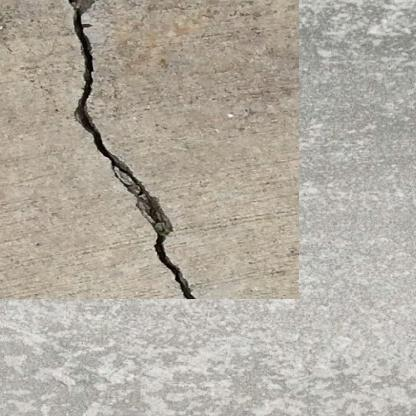Cracks: (55, 0, 184, 276)
